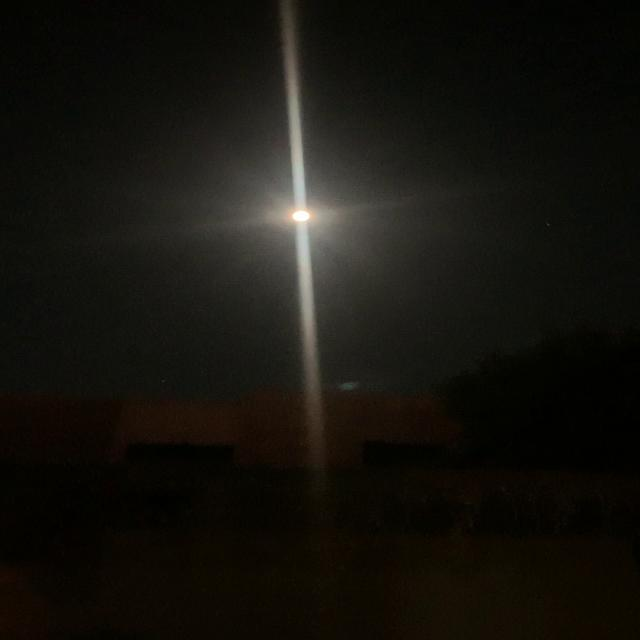moon: (270, 202, 332, 234)
